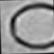no answer: (9, 2, 54, 50)
